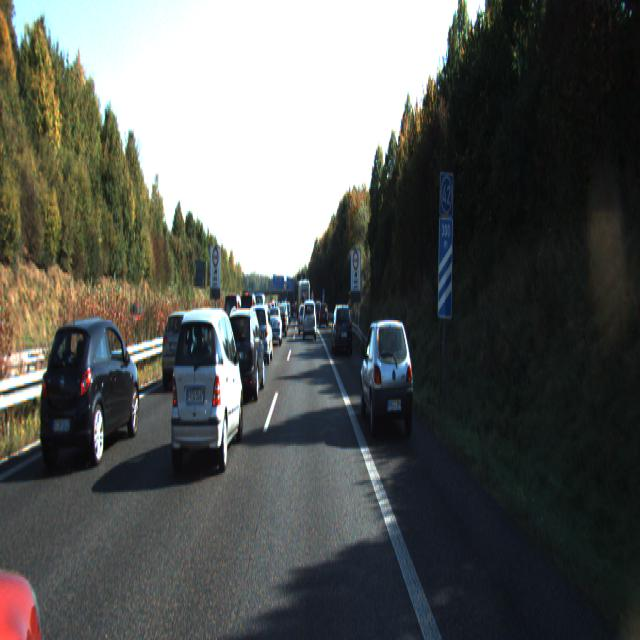Car: (0, 367, 63, 639), (36, 314, 140, 471), (167, 304, 245, 476), (360, 315, 415, 441), (222, 307, 266, 404), (161, 317, 206, 398), (202, 312, 231, 370), (224, 293, 244, 349), (332, 301, 352, 354), (240, 294, 259, 339), (267, 306, 283, 346), (303, 301, 317, 342), (320, 302, 327, 328)
